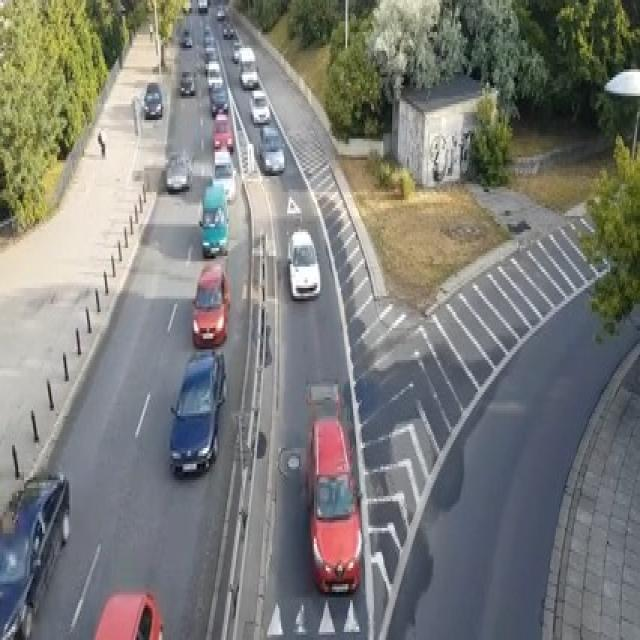car: (0, 470, 69, 638), (168, 347, 227, 477), (90, 590, 164, 638), (191, 261, 230, 347), (285, 226, 320, 298), (197, 181, 228, 256), (257, 123, 285, 173), (212, 147, 236, 200), (165, 149, 192, 192), (212, 112, 233, 152), (239, 45, 257, 88), (248, 88, 270, 123), (143, 80, 162, 117), (209, 85, 228, 115), (206, 59, 222, 88), (179, 69, 195, 96), (231, 40, 242, 61), (180, 27, 192, 45), (203, 24, 213, 45), (222, 22, 233, 38), (217, 5, 226, 19), (182, 0, 191, 13), (197, 0, 207, 11)
